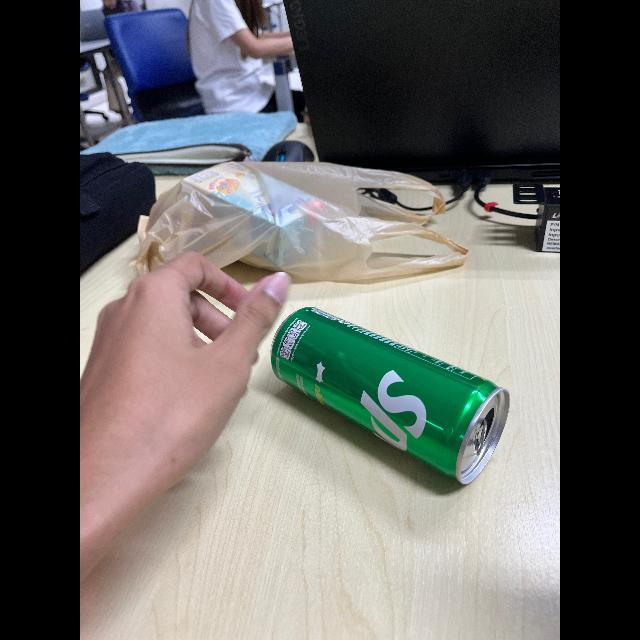can: (273, 295, 512, 495)
